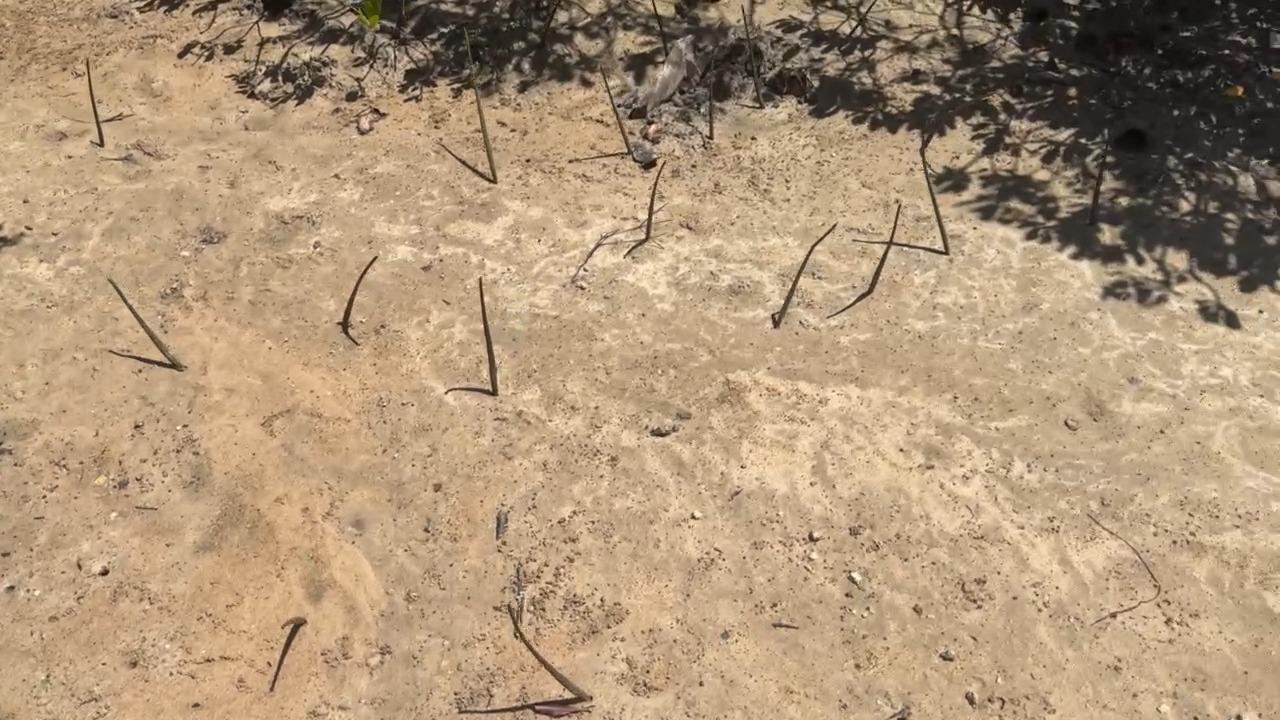Tree: (507, 602, 592, 702), (106, 274, 186, 371), (774, 220, 838, 328), (462, 26, 499, 184), (919, 132, 952, 256), (866, 202, 903, 293), (599, 62, 633, 156), (739, 3, 766, 109), (342, 256, 379, 333), (1087, 127, 1113, 226), (478, 275, 499, 397), (86, 58, 106, 147), (645, 160, 667, 240), (651, 0, 670, 61), (708, 53, 716, 142), (281, 617, 308, 630)
